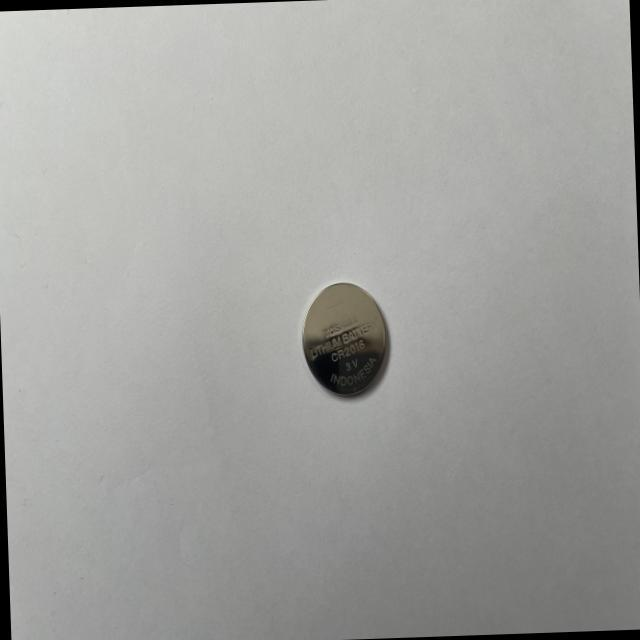COIN: (298, 275, 392, 402)
